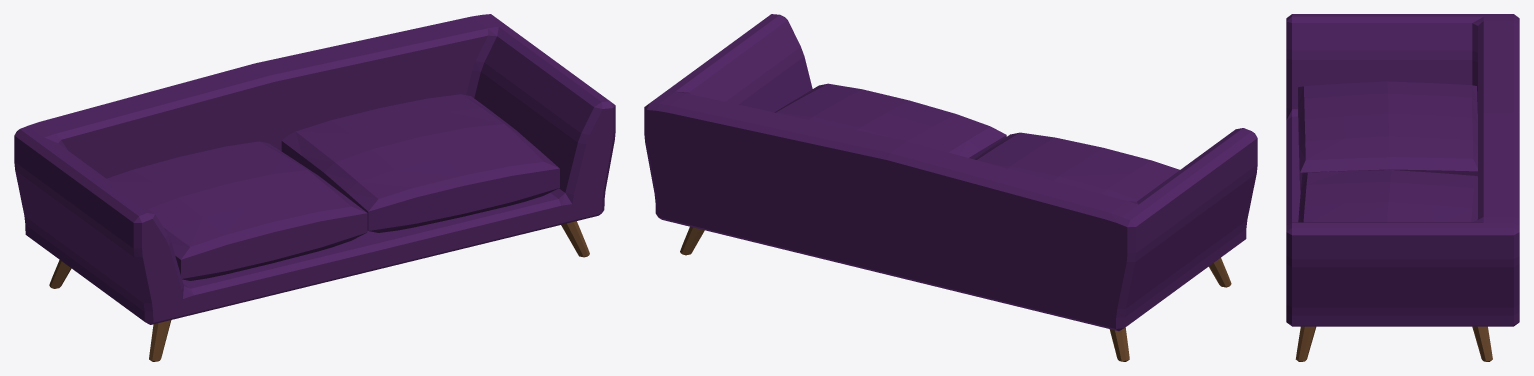
Rendered from studio_sofa_plum.fbx.
3 views of the same model, side by side, from view 1: azimuth 30°, elevation 25°; view 2: azimuth 150°, elevation 25°; view 3: azimuth 270°, elevation 25° (orthographic). The views are drawn at different scales.
Parts seen in each view (by area): view 1: studio_sofa_plum_LOD0; view 2: studio_sofa_plum_LOD0; view 3: studio_sofa_plum_LOD0.
Boxes of the visible parts, x1=… form: studio_sofa_plum_LOD0: x1=14, y1=14, x2=615, y2=361; studio_sofa_plum_LOD0: x1=644, y1=14, x2=1257, y2=361; studio_sofa_plum_LOD0: x1=1286, y1=14, x2=1519, y2=361.
Size of what is drawn, in the model's own units: 2 by 0.64 by 0.9.
Materials: 1 (1 with a texture image).
